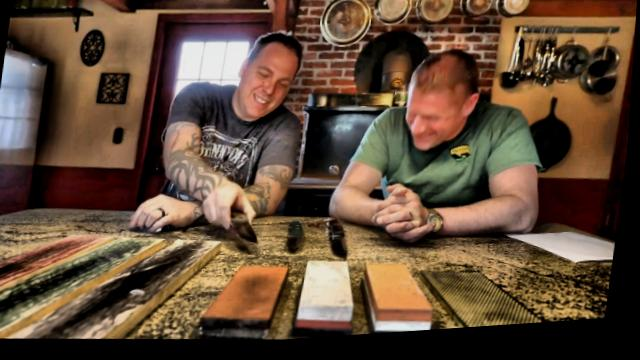knife: (207, 192, 276, 256)
